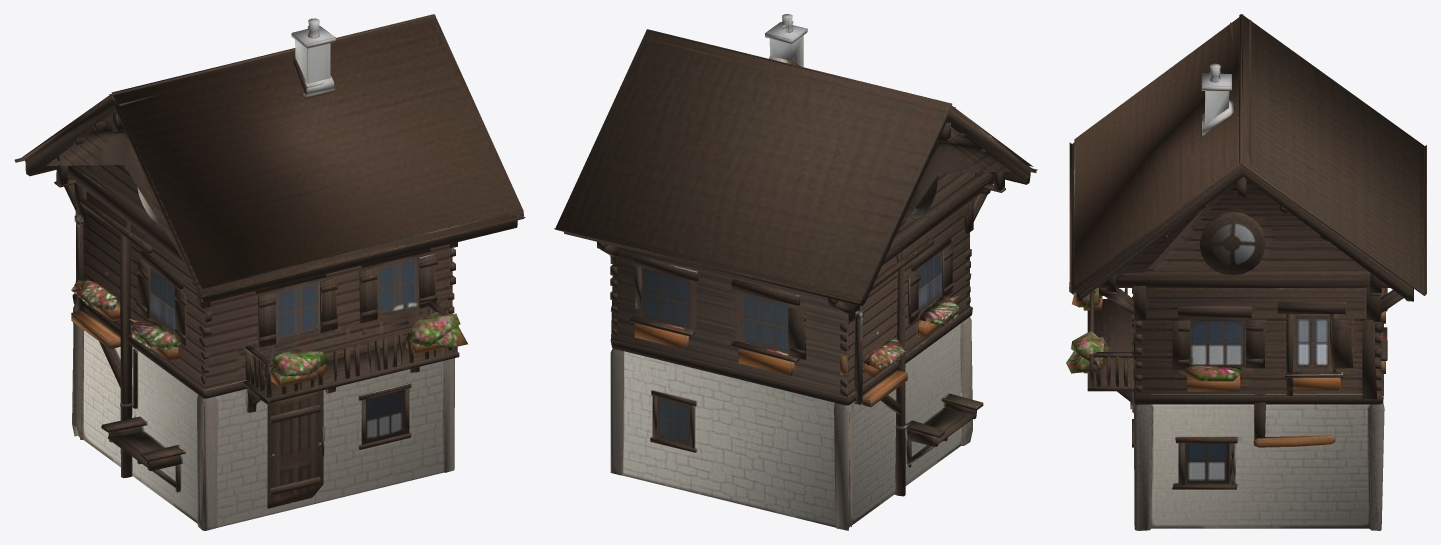
Rendered from alpine_hut.glb.
3 views of the same model, side by side, from view 1: azimuth 30°, elevation 25°; view 2: azimuth 150°, elevation 25°; view 3: azimuth 270°, elevation 25° (orthographic). The views are drawn at different scales.
Bounding box in the file's own units: 0.7261 × 0.9531 × 0.7437.
1 material, 1 textured.
